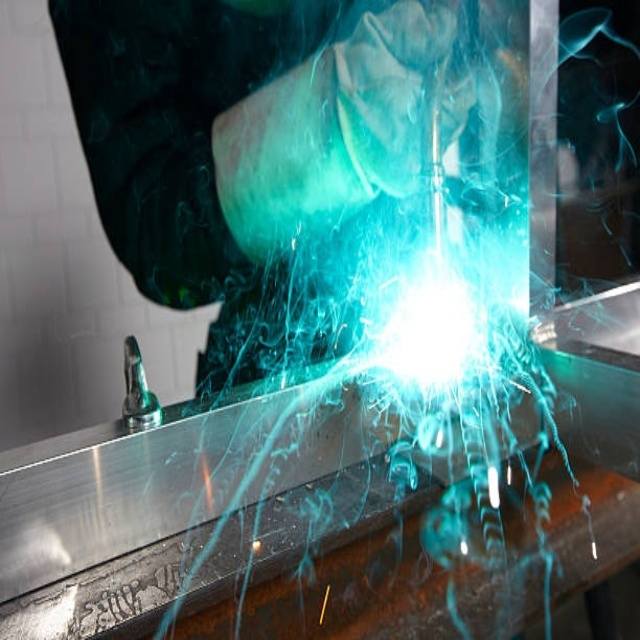Guantes: (213, 0, 508, 264)
